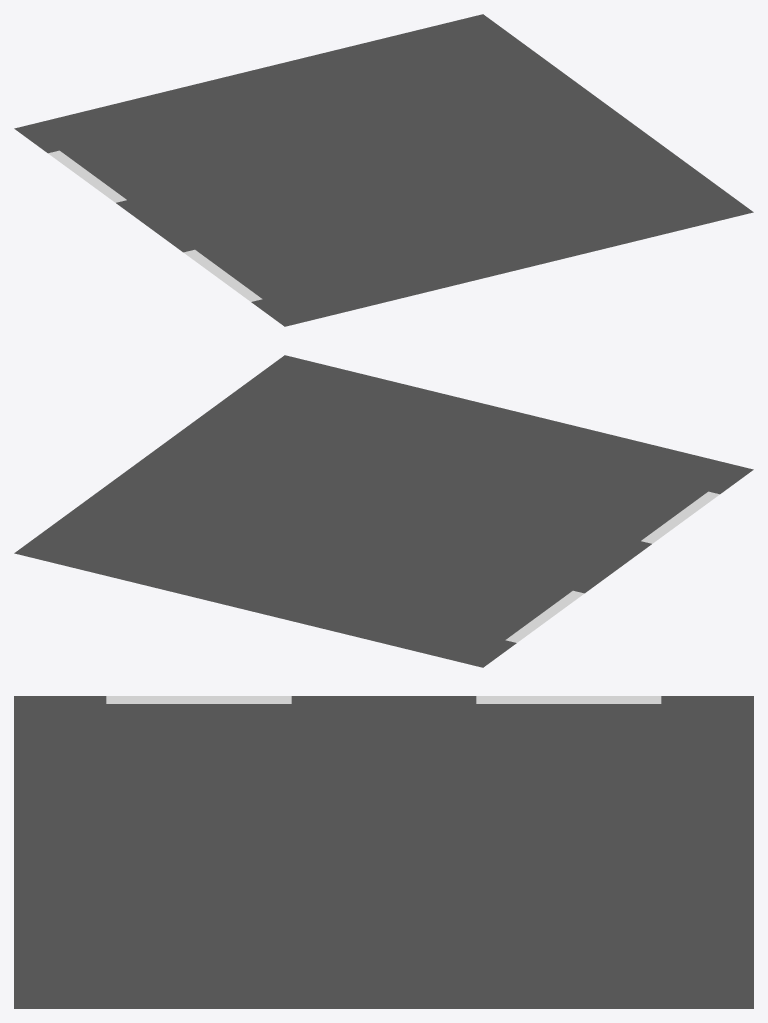
Rendered from RoadPart_02.fbx.
3 renders of one model, top to bottom at view 1: azimuth 30°, elevation 25°; view 2: azimuth 150°, elevation 25°; view 3: azimuth 270°, elevation 25°, orthographic. The views are drawn at different scales.
Parts seen in each view (by area): view 1: RoadPart_02; view 2: RoadPart_02; view 3: RoadPart_02.
Boxes of the visible parts, bbox=[...] form: RoadPart_02: bbox=[14, 14, 753, 326]; RoadPart_02: bbox=[14, 355, 753, 667]; RoadPart_02: bbox=[14, 696, 753, 1008].
Bounding box in the file's own units: 300 × 0.000146 × 300.
